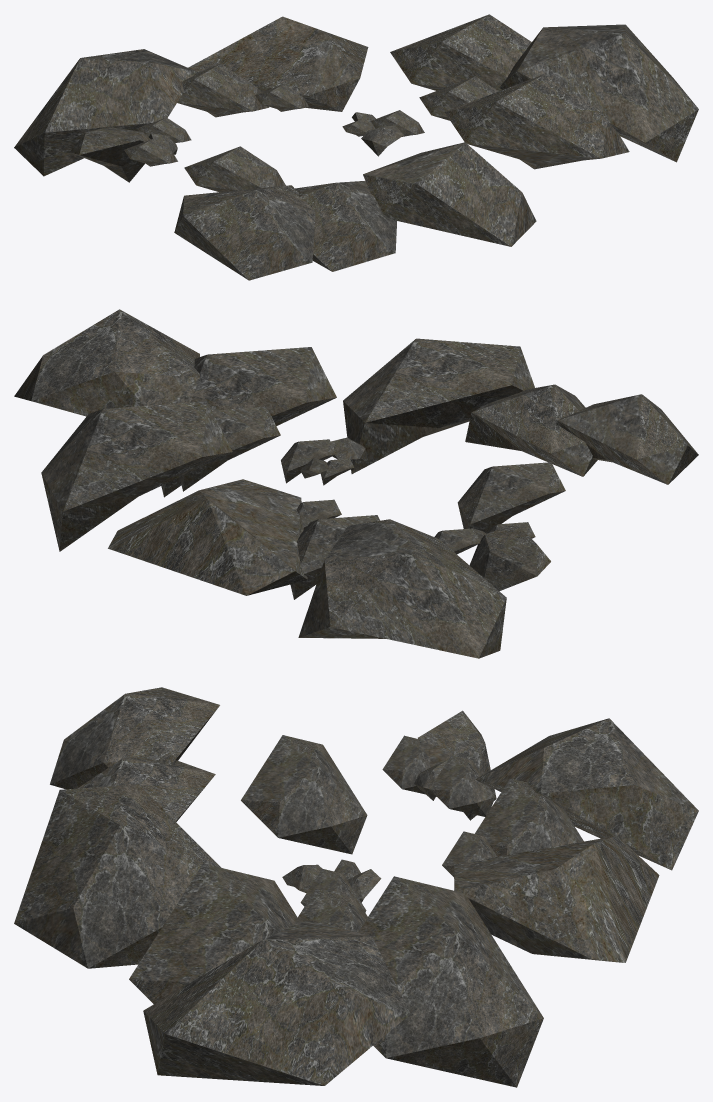
Rendered from small1.fbx.
3 renders of one model, top to bottom at view 1: azimuth 30°, elevation 25°; view 2: azimuth 150°, elevation 25°; view 3: azimuth 270°, elevation 25°, orthographic. The views are drawn at different scales.
Parts seen in each view (by area): view 1: Rocks1; view 2: Rocks1; view 3: Rocks1.
Part boxes in pixels (x1,y1,x2,y2): Rocks1: (14,14,698,280); Rocks1: (14,309,698,658); Rocks1: (14,687,698,1087).
Size of the model in its own units: 210 by 50.07 by 177.
